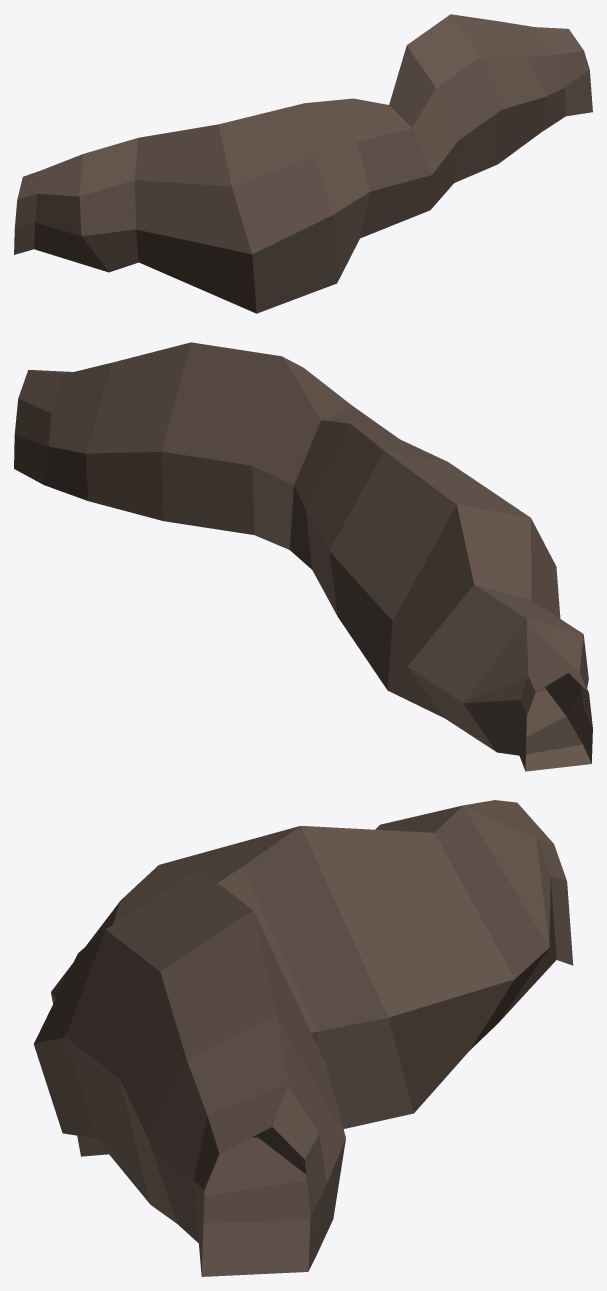
Rendered from Tunnel-A05.fbx.
The picture shows the model from 3 angles, top to bottom: view 1: azimuth 30°, elevation 25°; view 2: azimuth 150°, elevation 25°; view 3: azimuth 270°, elevation 25°; orthographic projection. The views are drawn at different scales.
Visible parts, largest first — view 1: Tunnel-A05; view 2: Tunnel-A05; view 3: Tunnel-A05.
Part boxes in pixels (x1,y1,x2,y2): Tunnel-A05: (14,14,592,313); Tunnel-A05: (14,342,592,771); Tunnel-A05: (34,800,573,1276).
Size of the model in its own units: 1838 by 851 by 758.
